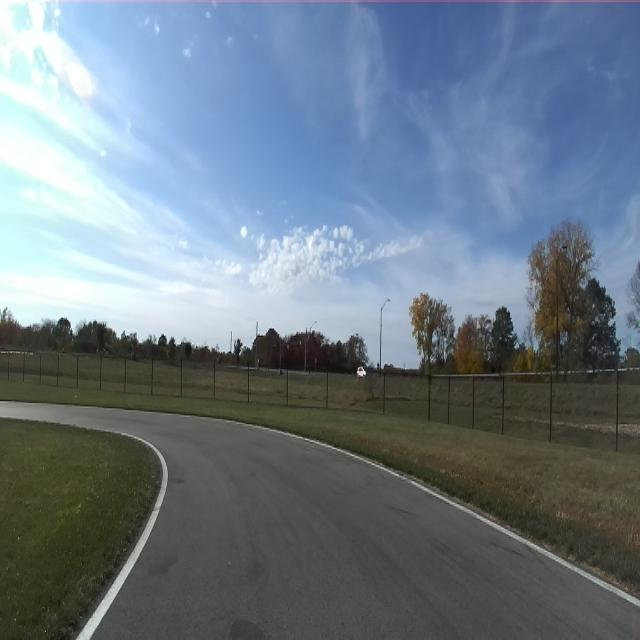white-line: (225, 420, 640, 607), (76, 431, 168, 639)
